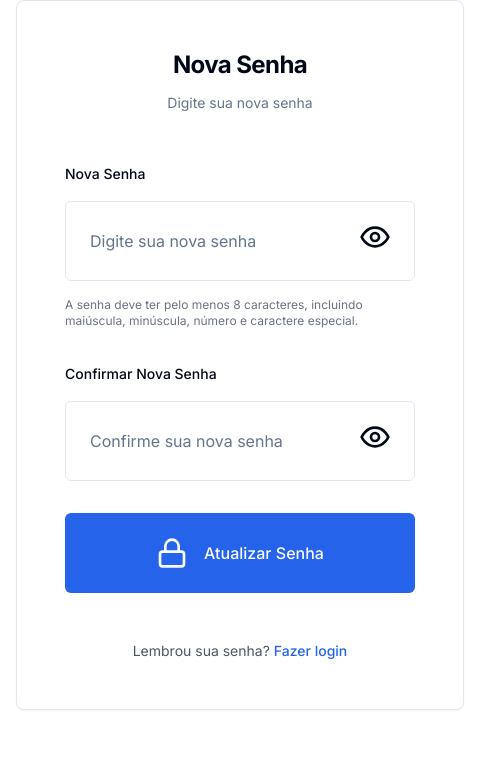
Test: UpdatePasswordForm › Form Validation › shows error for weak password
Type "weak" into the password field with placeholder "Digite sua nova senha" at (240, 241), box [65, 201, 415, 281]
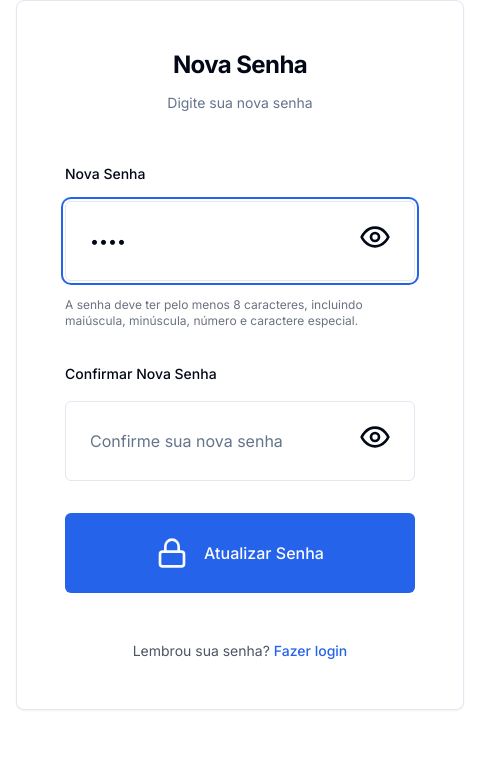
Click the button "Atualizar Senha" at (240, 553), box [65, 513, 415, 593]
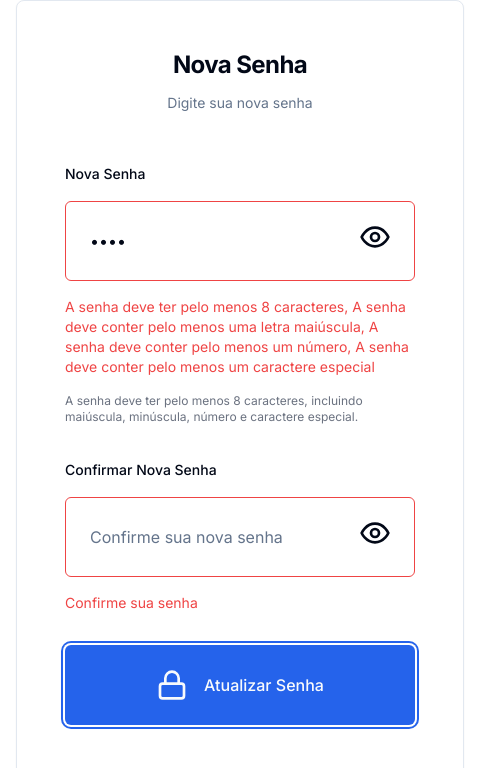
Now the text "senha deve ter pelo menos 8 caracteres" is shown, box [65, 298, 409, 375]
